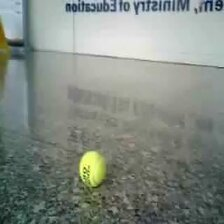tennis: (79, 151, 107, 189)
